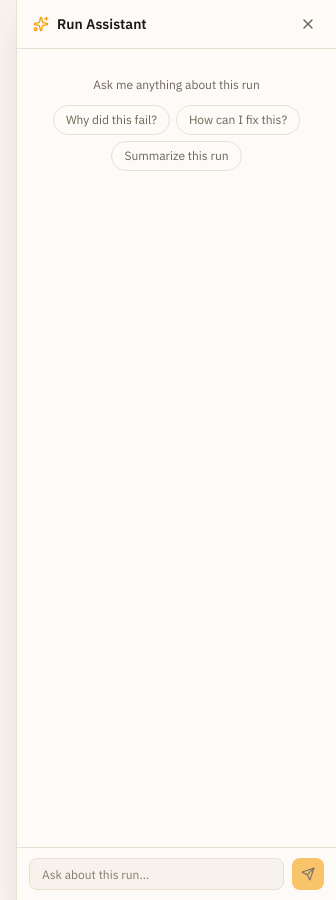
Test: AiChatSidebar (advisor-backed) › sends the question to the assistant endpoint and renders the answer
The width and height of the screenshot is (336, 900).
Type "proc to spadlo?" into the field with placeholder "Ask about this run..." at (156, 874), box [29, 858, 284, 890]
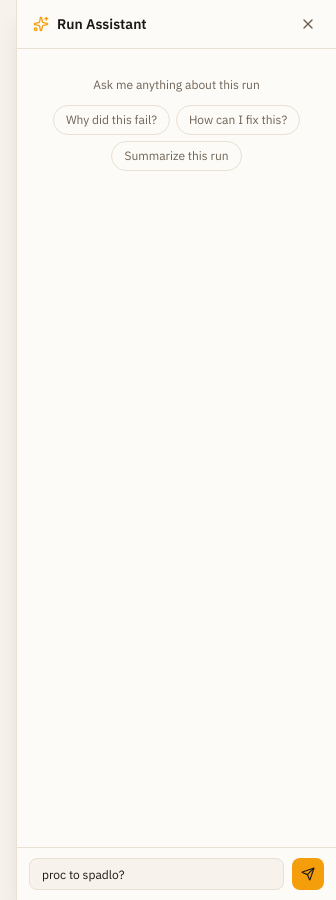
Submit the form with placeholder "ask about this run", box [17, 847, 335, 899]
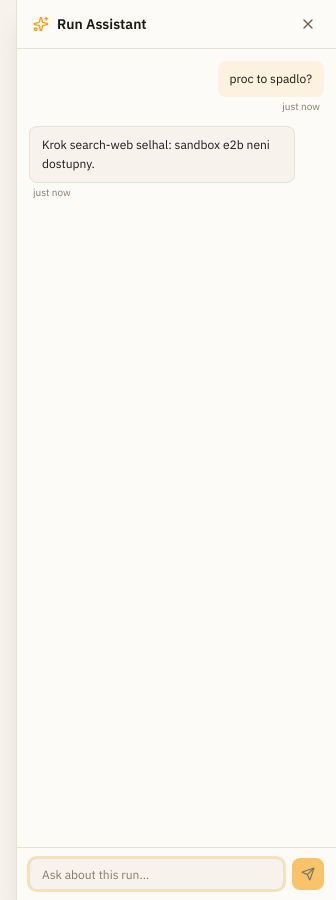
Expected: the text "Krok search-web selhal: sandbox e2b neni dostupny." is shown, [42, 136, 270, 171]
